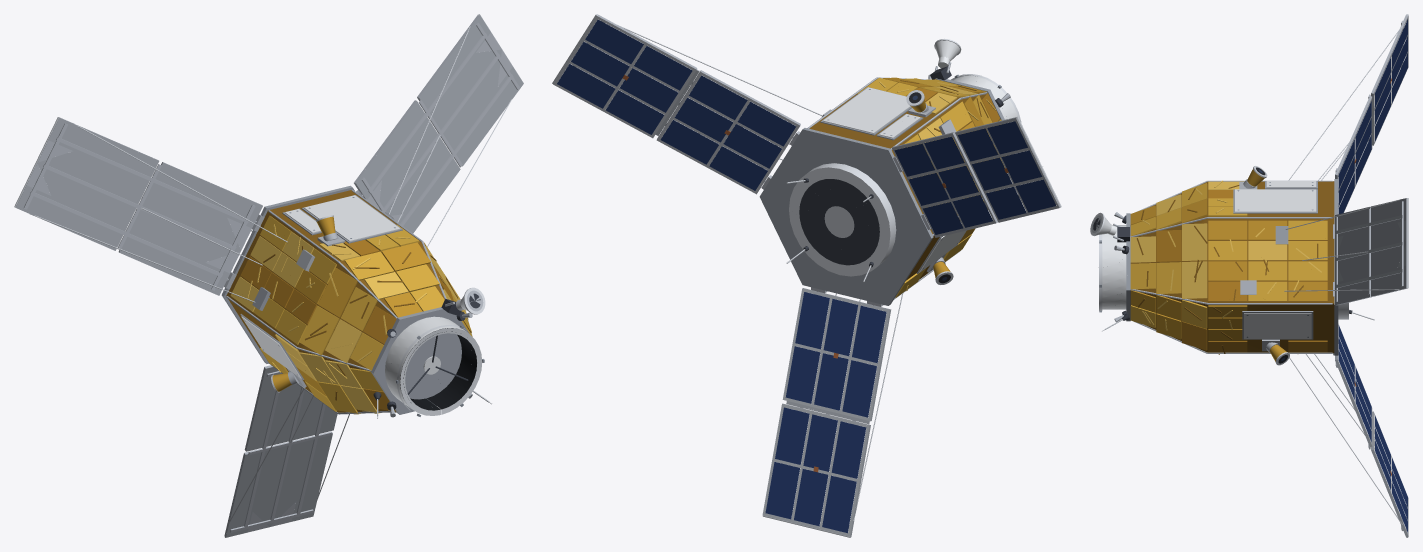
The model's file is pleiades.glb.
3 views of the same model, side by side, from view 1: azimuth 30°, elevation 25°; view 2: azimuth 150°, elevation 25°; view 3: azimuth 270°, elevation 25° (orthographic). The views are drawn at different scales.
Parts seen in each view (by area): view 1: body, foil, solar-panel; view 2: solar-panel, body, foil; view 3: foil, body, solar-panel.
Boxes of the visible parts, x1=… form: body: x1=15, y1=15, x2=523, y2=537; foil: x1=226, y1=190, x2=472, y2=414; solar-panel: x1=14, y1=14, x2=523, y2=537; solar-panel: x1=552, y1=14, x2=1061, y2=537; body: x1=553, y1=14, x2=1060, y2=536; foil: x1=809, y1=77, x2=1004, y2=297; foil: x1=1130, y1=169, x2=1334, y2=361; body: x1=1090, y1=14, x2=1408, y2=537; solar-panel: x1=1259, y1=14, x2=1408, y2=537.
Size of the model in its own units: 5.81 by 5.03 by 3.52.
